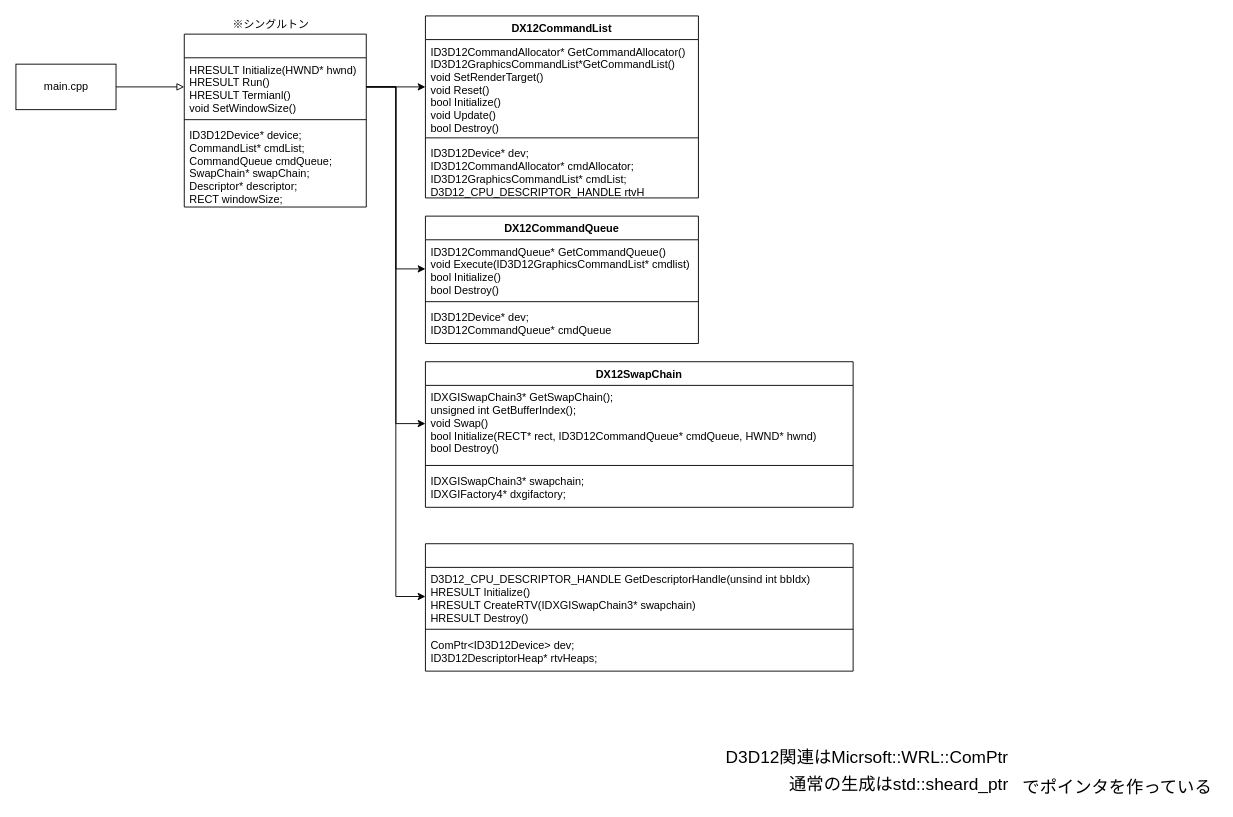
This 1233x817 diagram has some shape labels left out. Each missing label, with the box of its shape:
DX12DescripterHeap: (425, 543, 853, 671)
DX12Main: (183, 33, 366, 207)
